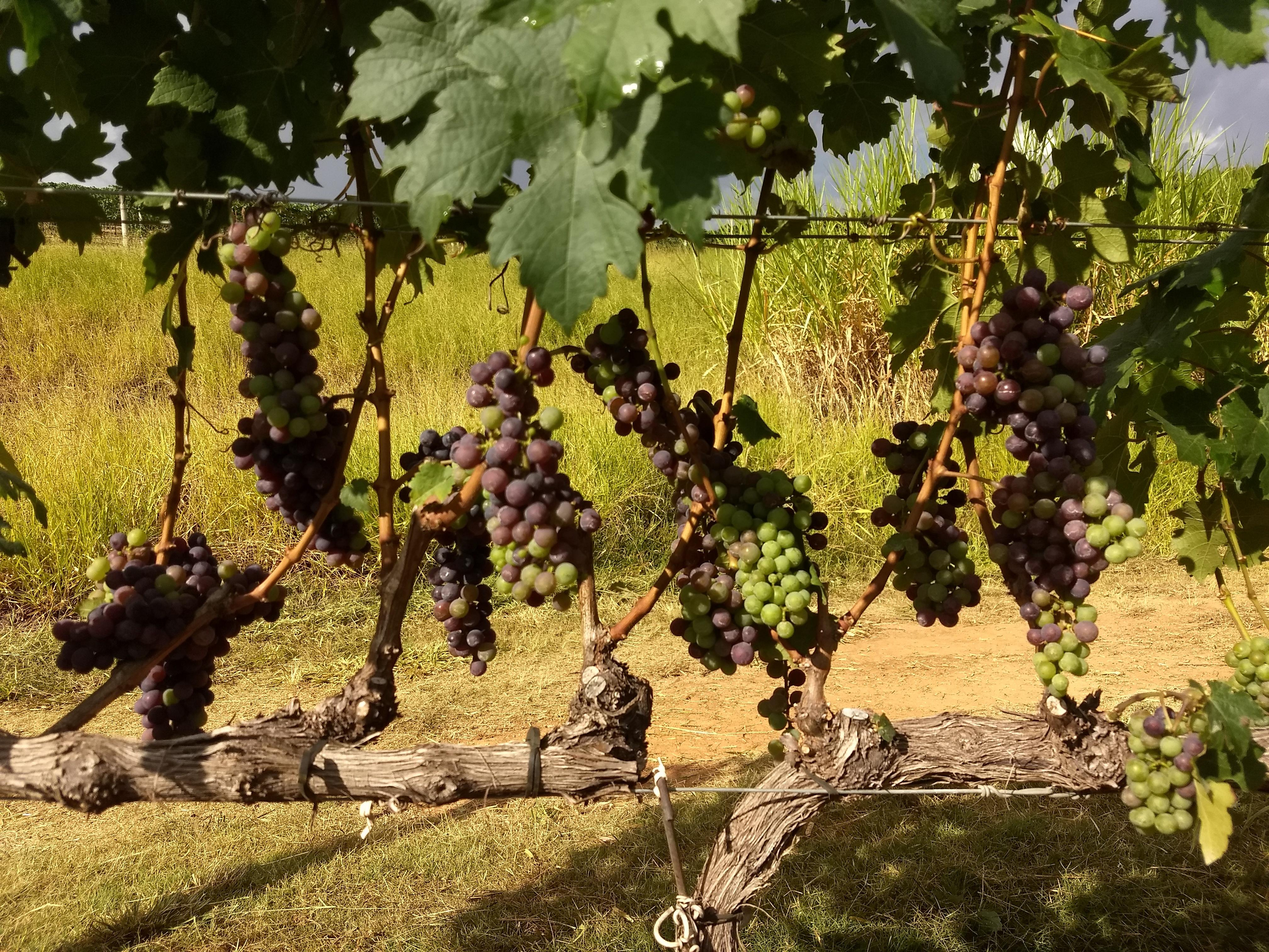leaf: (384, 22, 576, 241), (488, 118, 641, 330), (619, 82, 727, 243), (343, 0, 487, 120), (563, 0, 670, 116), (740, 0, 842, 101), (820, 49, 914, 158), (873, 0, 963, 103), (883, 247, 957, 372), (1163, 0, 1268, 65), (1097, 412, 1157, 513), (1170, 494, 1236, 581), (1220, 385, 1268, 497), (1170, 496, 1233, 581), (143, 202, 203, 291), (1106, 36, 1182, 102), (663, 0, 747, 58), (1204, 681, 1263, 756), (1113, 117, 1159, 212), (1148, 410, 1219, 467), (11, 0, 69, 64), (1195, 779, 1236, 865), (147, 65, 216, 111), (1227, 492, 1268, 565), (408, 462, 454, 506), (340, 477, 376, 516), (1239, 770, 1263, 788), (613, 113, 627, 139), (551, 209, 566, 216), (621, 110, 632, 112), (884, 0, 894, 2), (1205, 773, 1214, 775), (1128, 107, 1130, 114), (714, 109, 716, 113), (1148, 104, 1149, 109), (411, 485, 412, 489), (447, 468, 448, 472), (596, 129, 598, 131), (632, 104, 634, 105), (1116, 117, 1118, 118), (1148, 111, 1148, 115)
